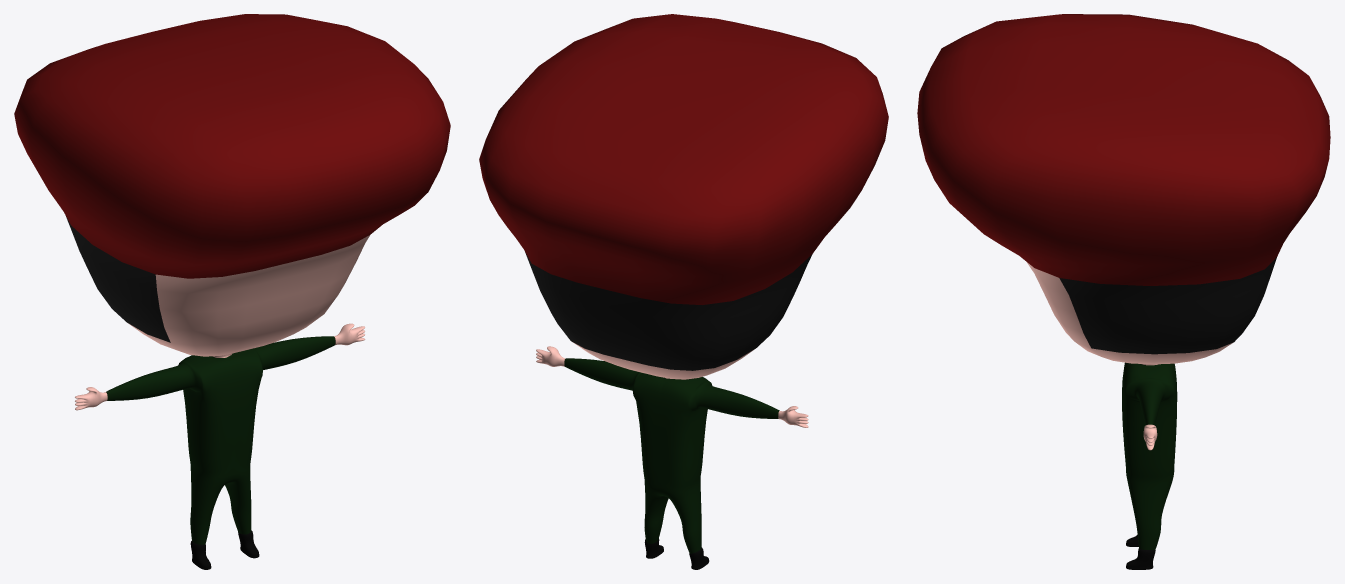
Rendered from big soldier.FBX.
3 views of the same model, side by side, from view 1: azimuth 30°, elevation 25°; view 2: azimuth 150°, elevation 25°; view 3: azimuth 270°, elevation 25° (orthographic). The views are drawn at different scales.
Visible parts, largest first — view 1: Hitman; view 2: Hitman; view 3: Hitman.
Part boxes in pixels (<box>): Hitman: <box>14,14,450,569</box>; Hitman: <box>479,14,888,569</box>; Hitman: <box>917,14,1330,569</box>.
Bounding box in the file's own units: 218 × 308 × 235.
